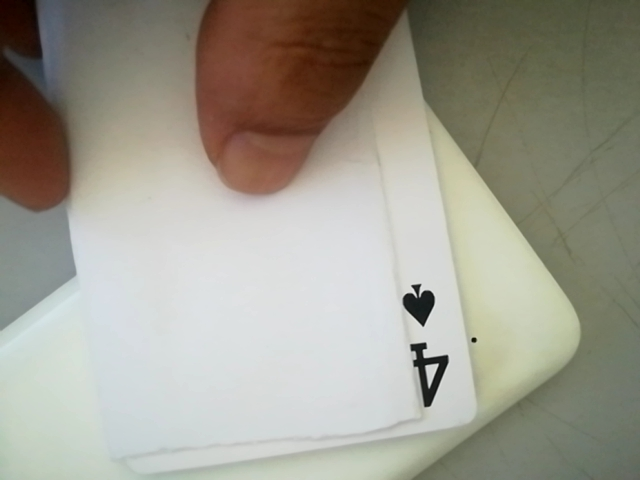ht 4: (385, 268, 471, 429)
